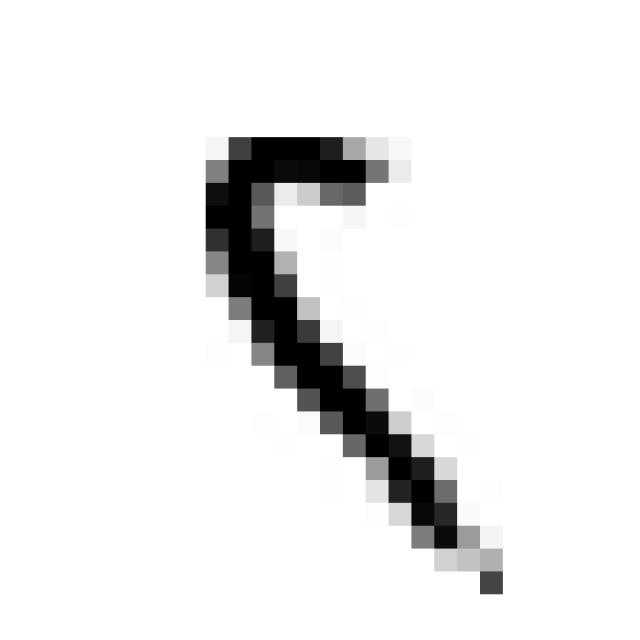2 -two-: (185, 110, 521, 614)
